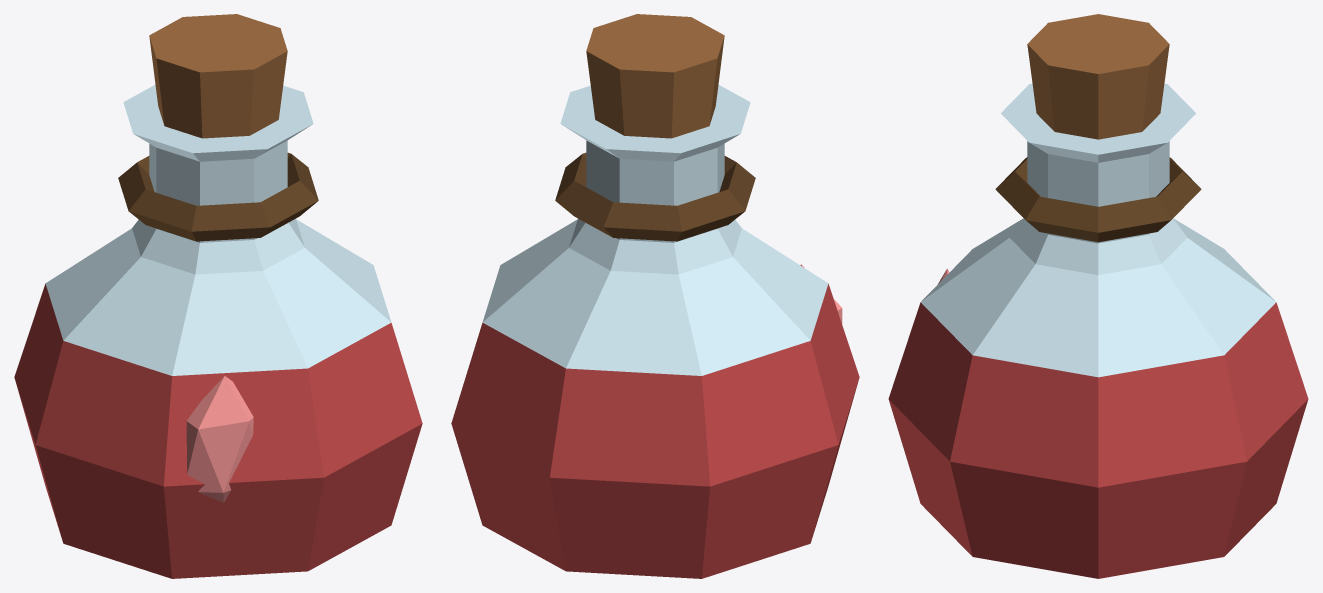
The model's file is potion.glb.
3 renders of one model, left to right at view 1: azimuth 30°, elevation 25°; view 2: azimuth 150°, elevation 25°; view 3: azimuth 270°, elevation 25°, orthographic.
Parts seen in each view (by area): view 1: potion; view 2: potion; view 3: potion.
Part boxes in pixels (x1,y1,x2,y2): potion: (14, 14, 422, 578); potion: (451, 14, 859, 578); potion: (888, 14, 1308, 578).
Bounding box in the file's own units: 0.236 × 0.305 × 0.236.
